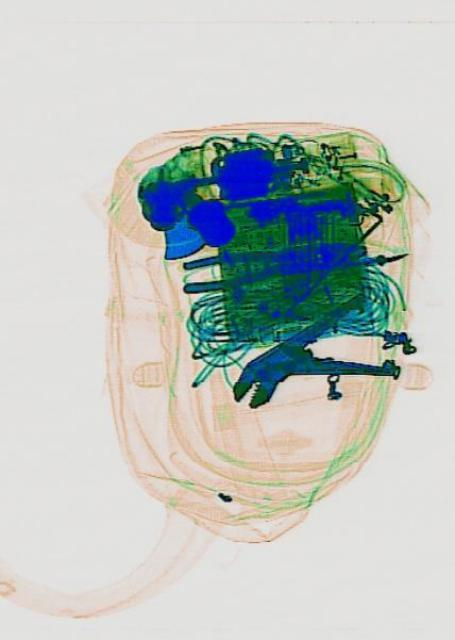Pliers: (220, 284, 397, 448), (180, 230, 367, 294)
